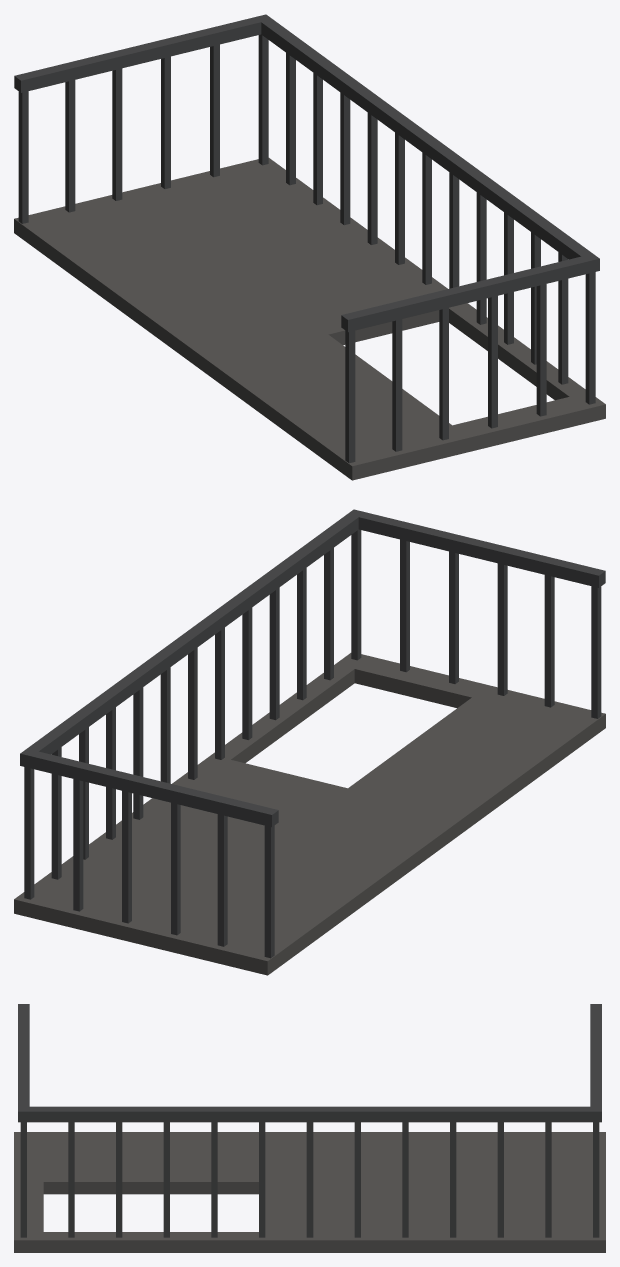
The model's file is SM_Props_FireEscape_Top.fbx.
3 renders of one model, top to bottom at view 1: azimuth 30°, elevation 25°; view 2: azimuth 150°, elevation 25°; view 3: azimuth 270°, elevation 25°, orthographic. The views are drawn at different scales.
Parts seen in each view (by area): view 1: SM_Props_FireEscape_Top; view 2: SM_Props_FireEscape_Top; view 3: SM_Props_FireEscape_Top.
Boxes of the visible parts, left/top/right/bottom form: SM_Props_FireEscape_Top: left=14, top=14, right=605, bottom=480; SM_Props_FireEscape_Top: left=14, top=509, right=605, bottom=975; SM_Props_FireEscape_Top: left=14, top=1004, right=605, bottom=1252.
Bounding box in the file's own units: 131 × 78 × 300.
